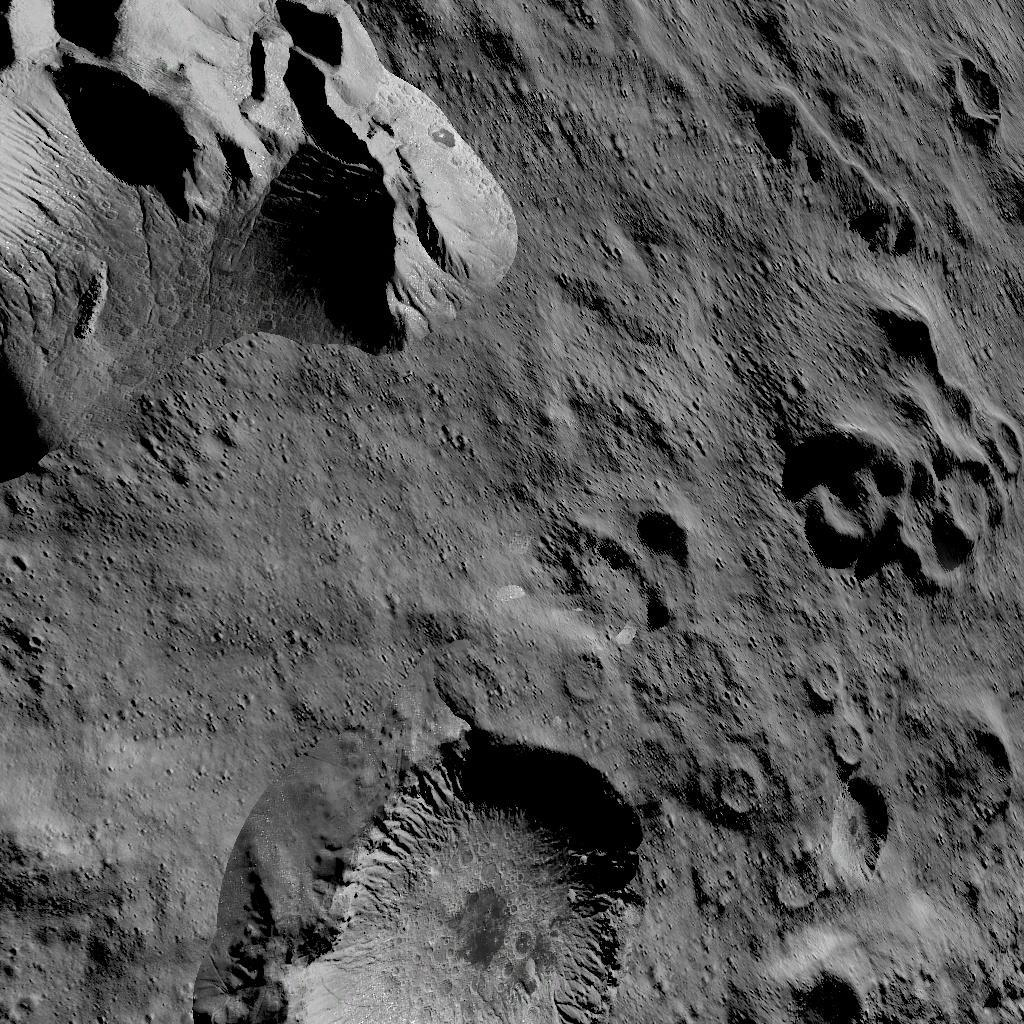Boulders: (0, 0, 525, 489)
Crater: (211, 720, 660, 1024), (791, 404, 1024, 604), (565, 514, 719, 632), (821, 780, 912, 894), (761, 962, 895, 1024), (817, 668, 892, 774), (942, 43, 1011, 137), (721, 764, 781, 822), (567, 652, 626, 706)
Plan surface: (0, 500, 544, 706), (547, 0, 768, 504)
